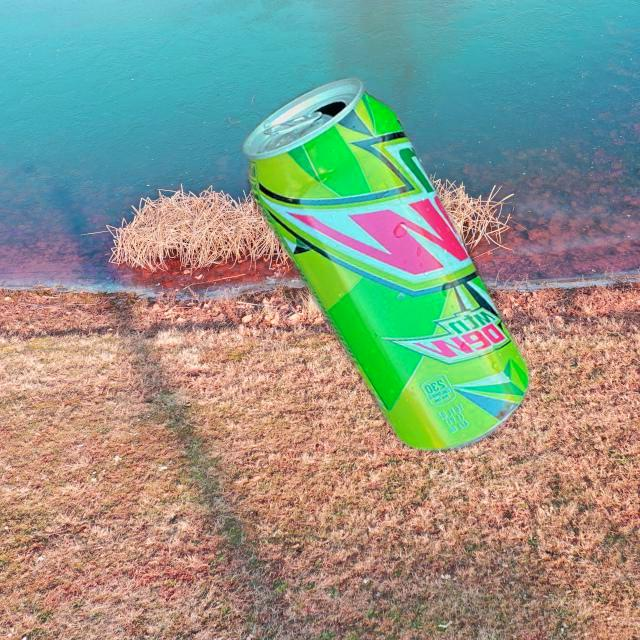Metal: (237, 73, 533, 457)
